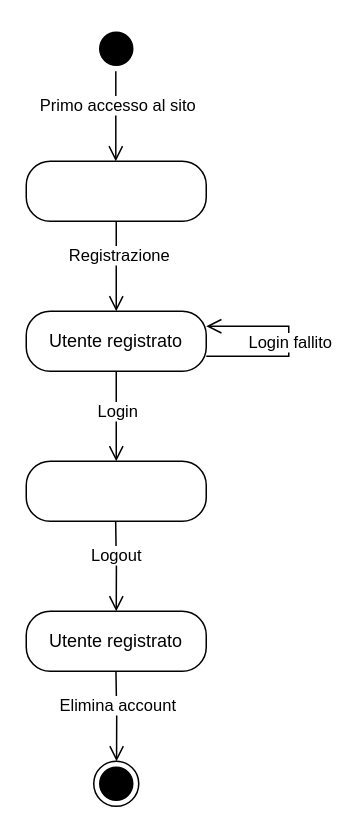
This 357x833 diagram has some shape labels left out. The shapes that lost their labels are listed below. From the top down, each one's centre as x and y in pixels, then its label:
(115,190): Utente non registrato
(115,490): Utente loggato
